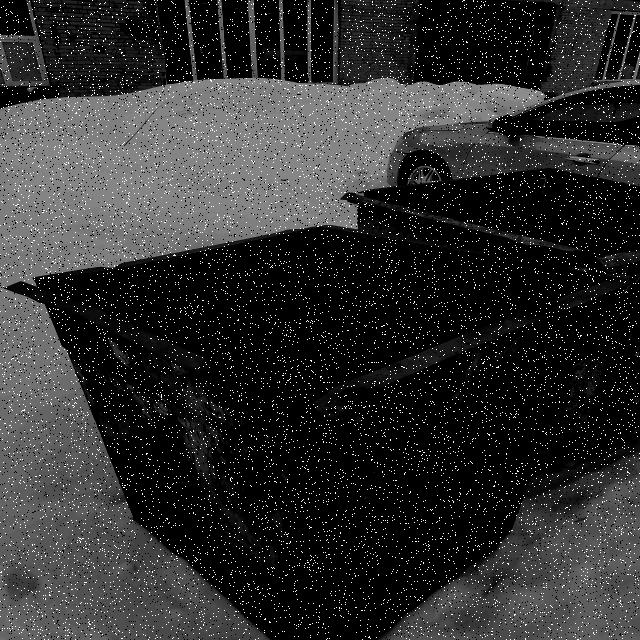Trashcan: (2, 213, 636, 640), (326, 126, 640, 476)
